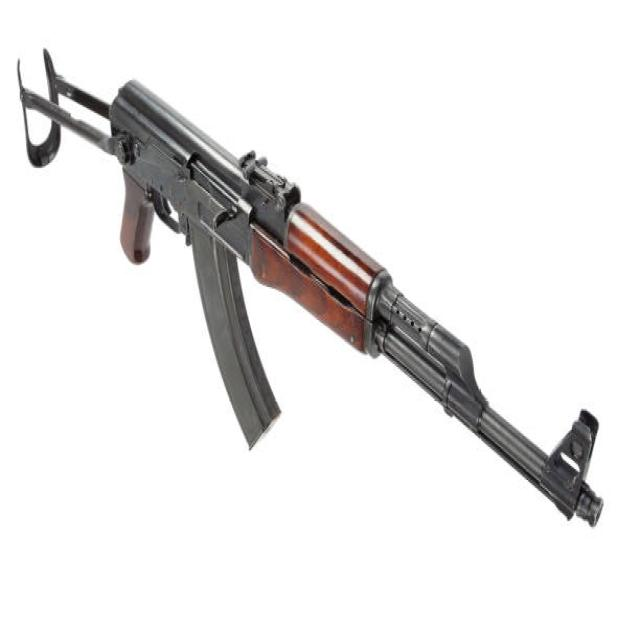rifle: (16, 38, 610, 541)
